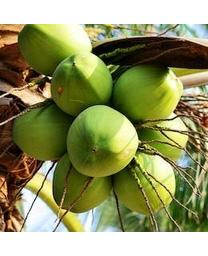coconut: (64, 104, 139, 178), (116, 61, 189, 122), (110, 151, 179, 214), (48, 52, 115, 116), (9, 102, 78, 161), (50, 156, 113, 215), (20, 24, 92, 71)
